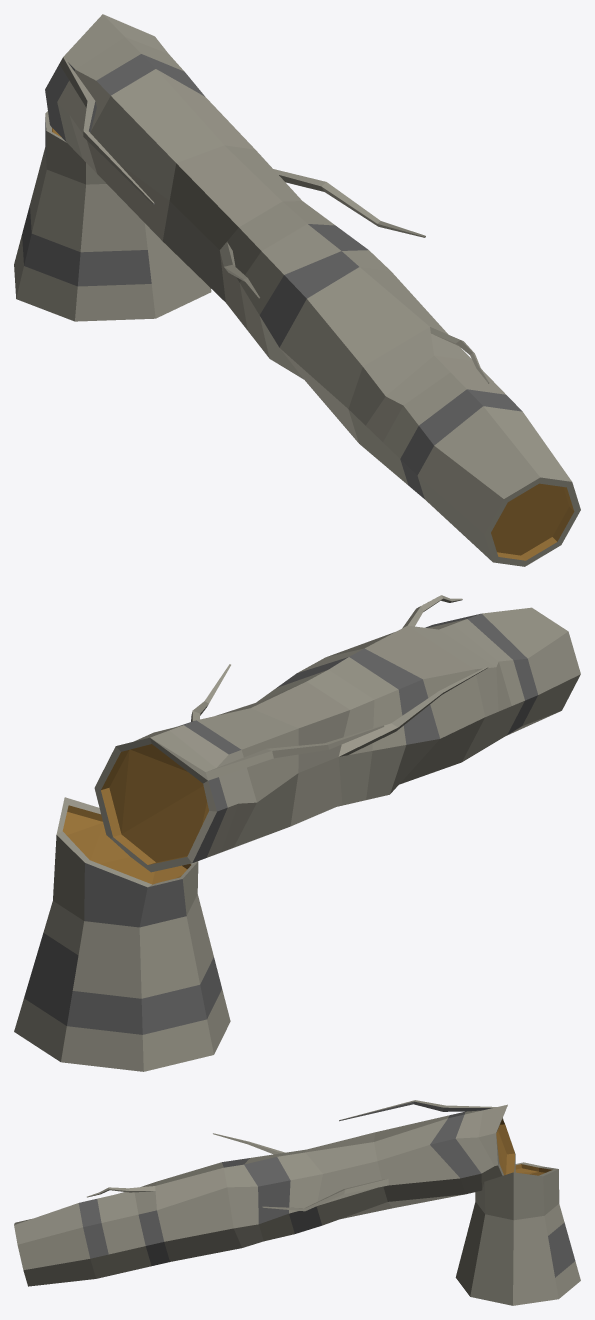
File: broken_trunk_fallen_tree.fbx
The picture shows the model from 3 angles, top to bottom: view 1: azimuth 30°, elevation 25°; view 2: azimuth 150°, elevation 25°; view 3: azimuth 270°, elevation 25°; orthographic projection. The views are drawn at different scales.
Parts seen in each view (by area): view 1: fallentree; view 2: fallentree; view 3: fallentree.
Boxes of the visible parts, <box> form: fallentree: <box>14,14,580,566</box>; fallentree: <box>14,595,580,1071</box>; fallentree: <box>14,1100,580,1305</box>.
Size of the model in its own units: 1.64 by 1.97 by 5.95.
